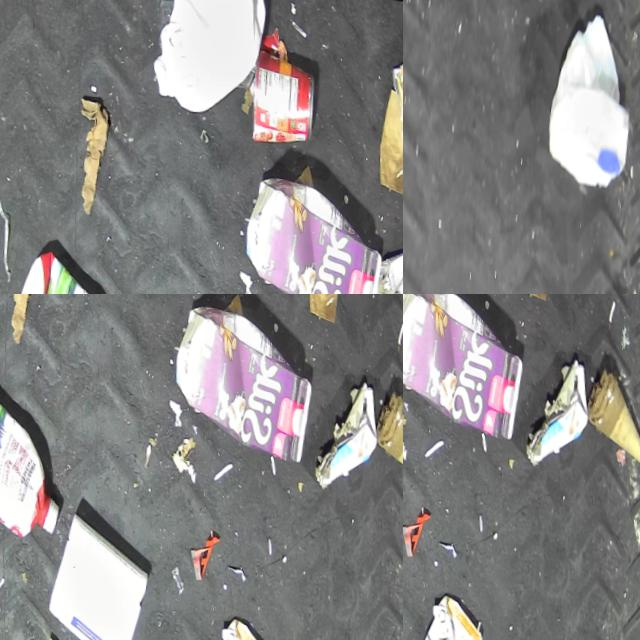can: (243, 42, 317, 145), (383, 53, 403, 152)
milk_jug: (536, 0, 637, 183), (143, 0, 270, 116)
non_white_jug: (164, 294, 314, 458), (234, 163, 384, 294), (0, 373, 62, 538), (3, 244, 132, 294), (185, 604, 271, 640)
